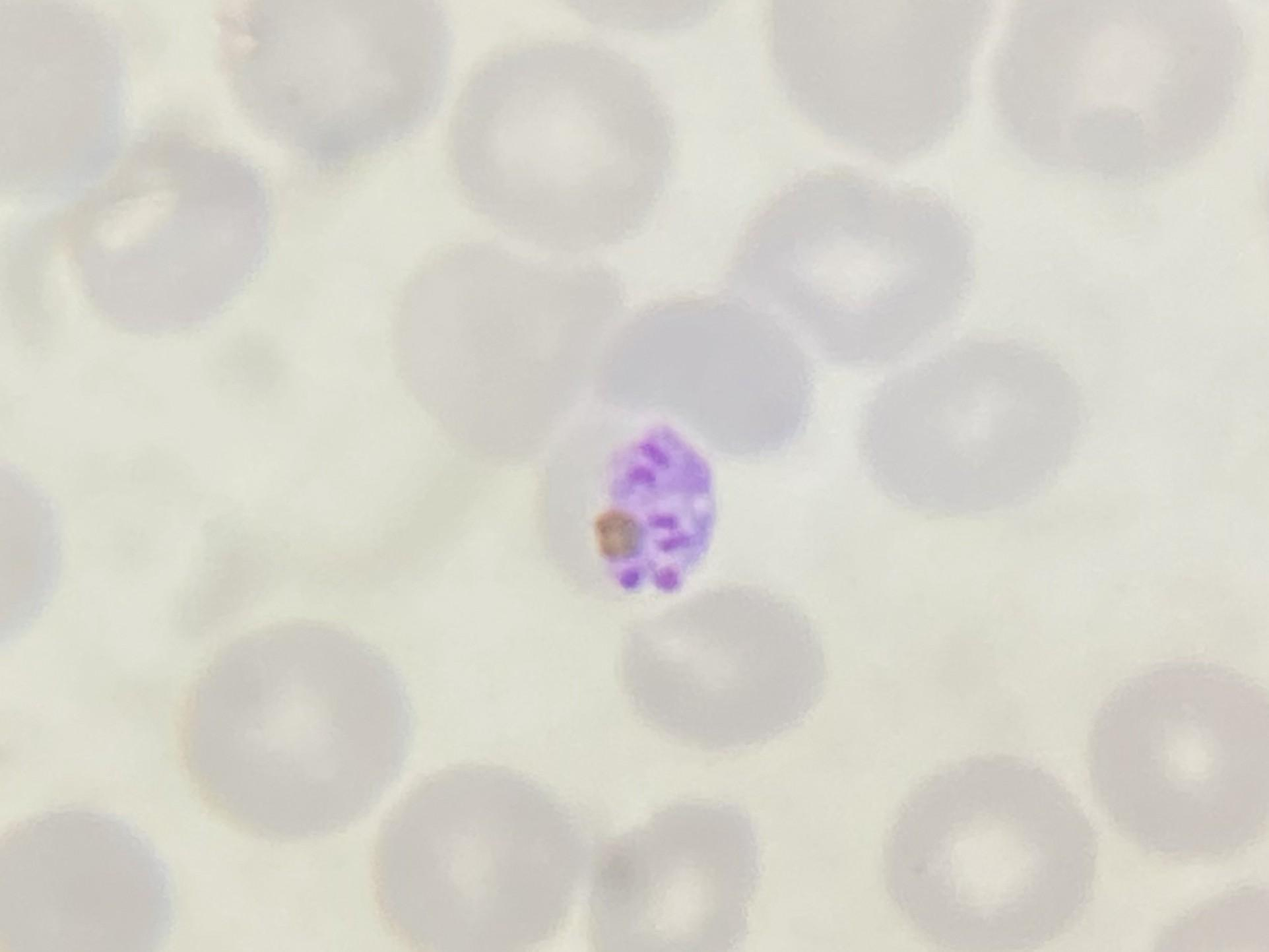Infected: (546, 414, 719, 600)
Uninfected: (178, 623, 411, 841), (400, 240, 622, 464), (449, 36, 672, 248), (750, 166, 971, 373), (849, 333, 1085, 506), (66, 141, 276, 335), (374, 757, 579, 952), (886, 764, 1095, 952), (999, 0, 1227, 170), (1084, 660, 1269, 860), (770, 0, 996, 159), (607, 284, 805, 465), (625, 584, 831, 748), (585, 799, 760, 952)
